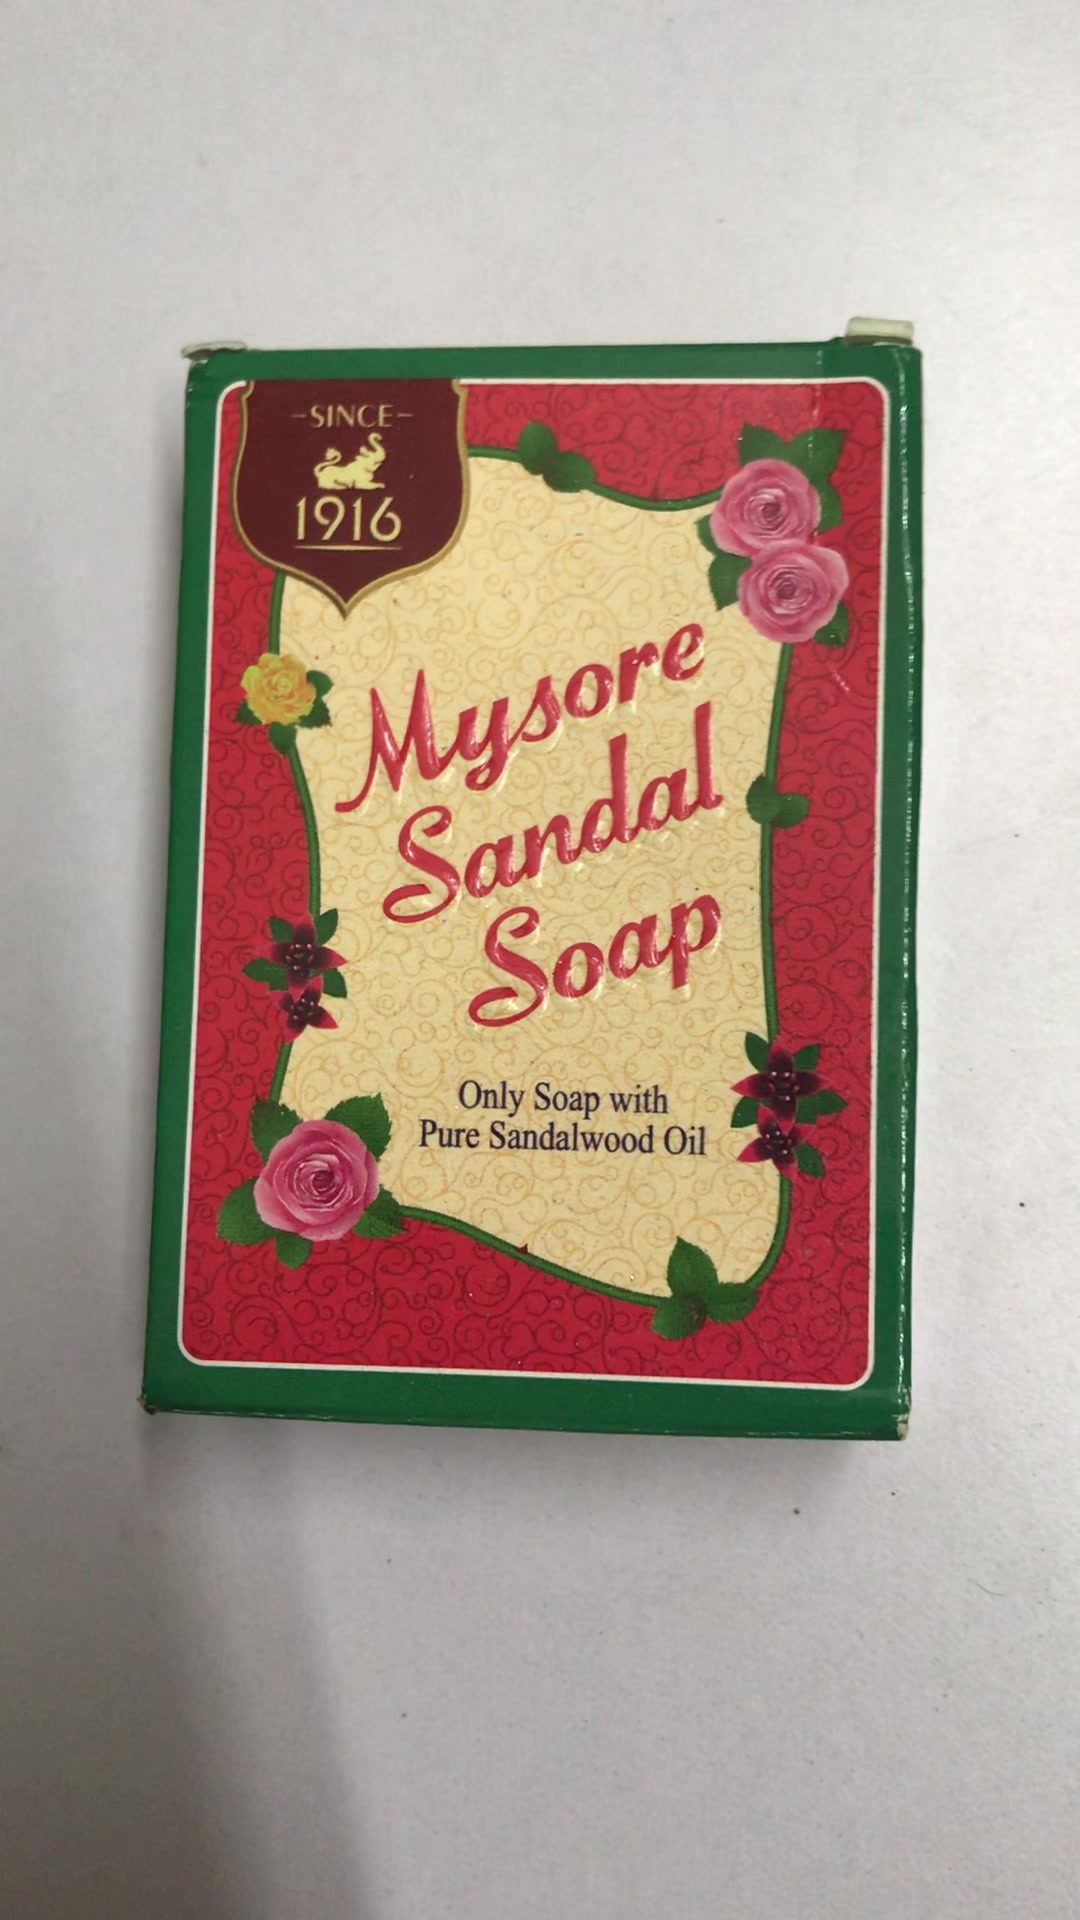mysore sandal soap: (136, 356, 918, 1443)
